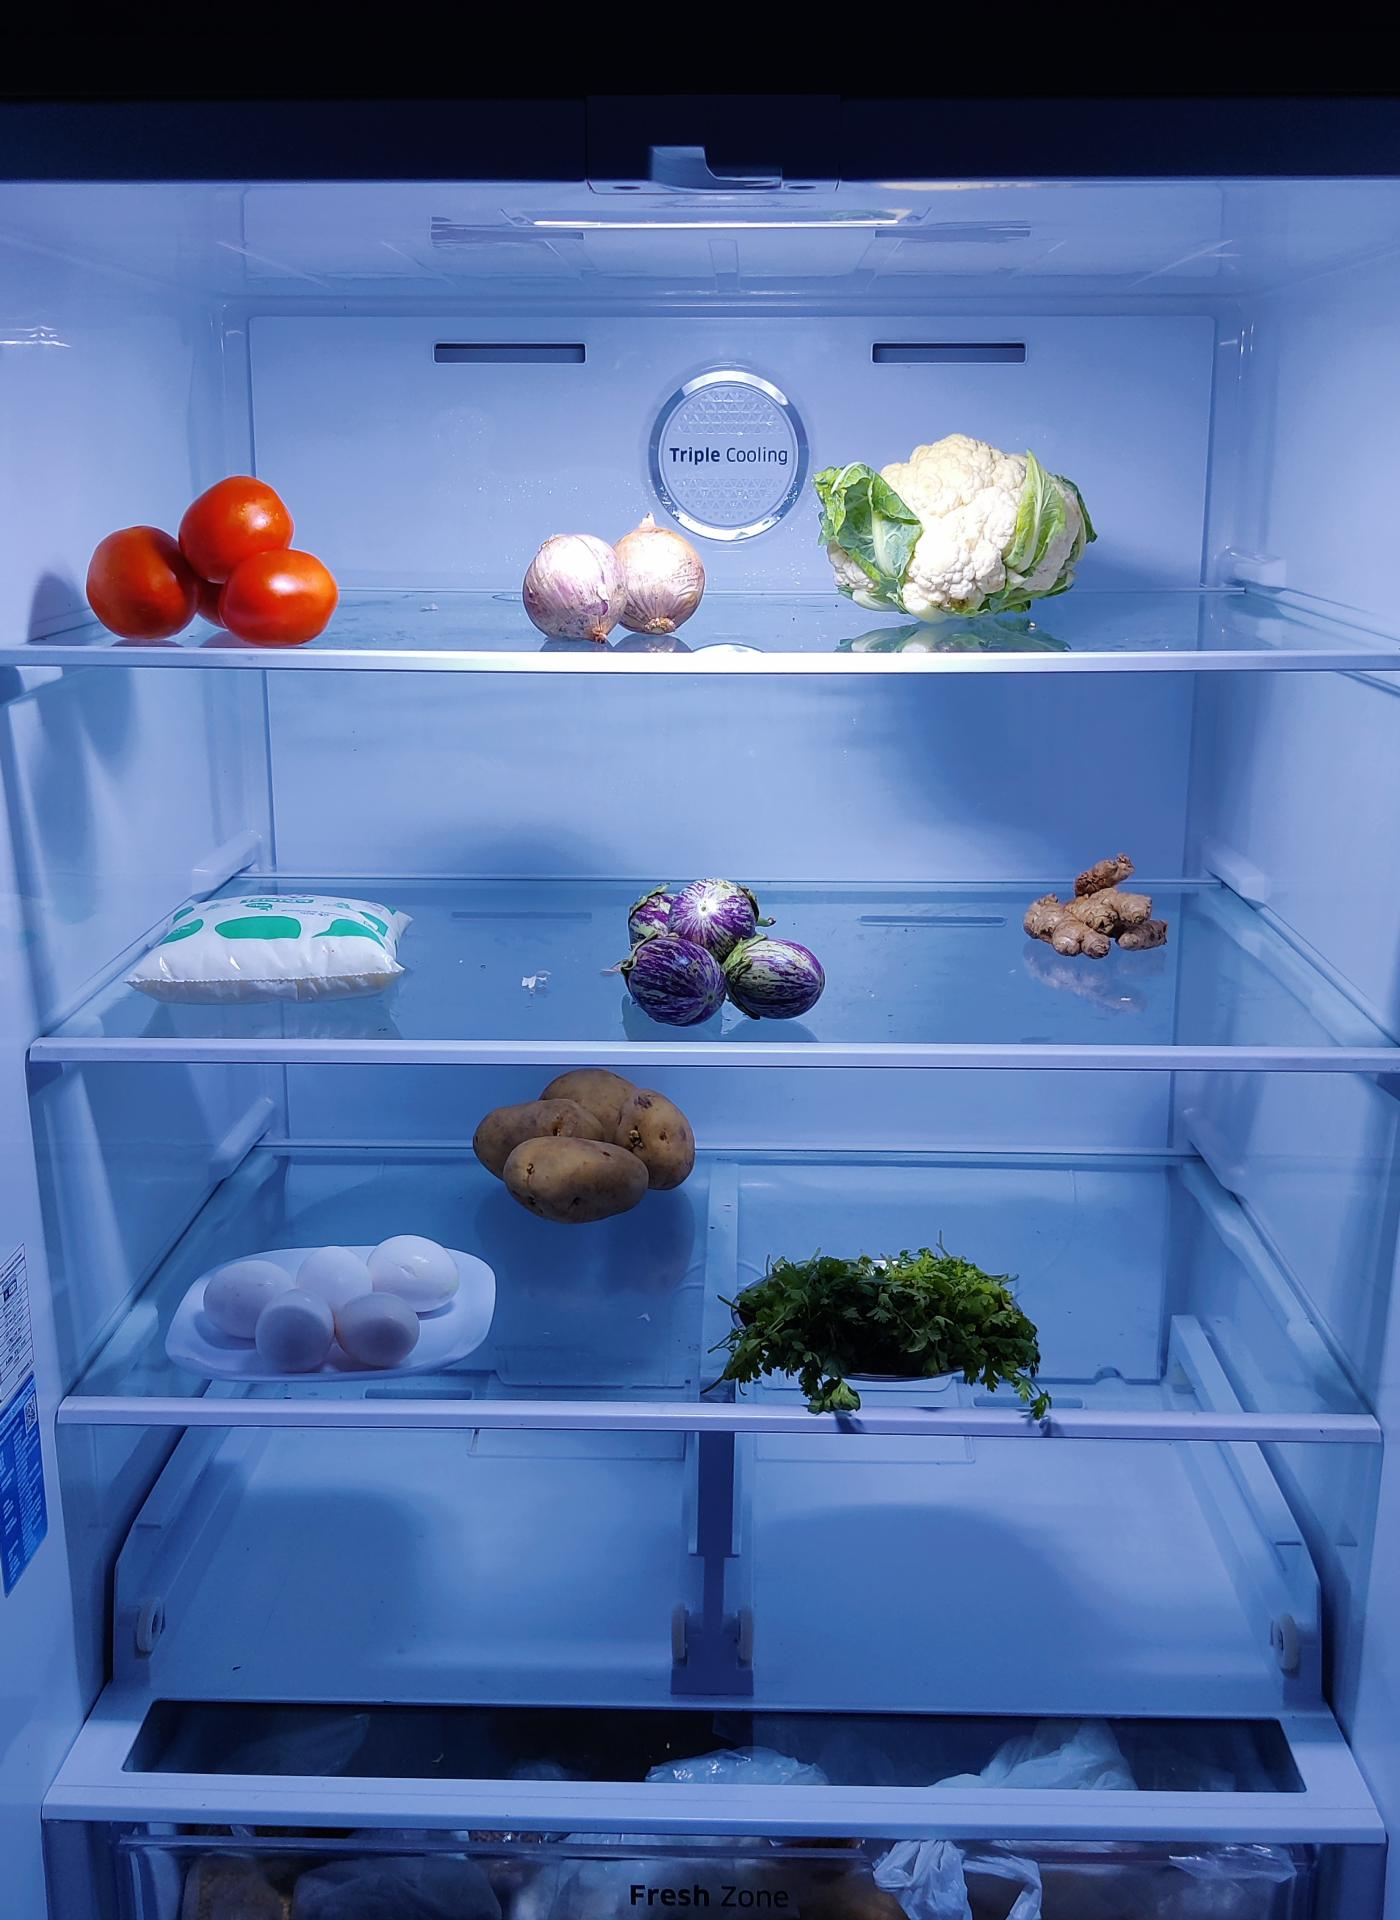brinjal: (622, 860, 827, 1039)
cauliflower: (829, 426, 1093, 616)
coriander: (725, 1242, 1044, 1389)
egg: (182, 1230, 495, 1377)
ginger: (1023, 847, 1175, 957)
milk: (136, 897, 414, 1014)
onion: (519, 525, 702, 644)
potato: (473, 1058, 699, 1215)
tomato: (82, 480, 341, 653)
